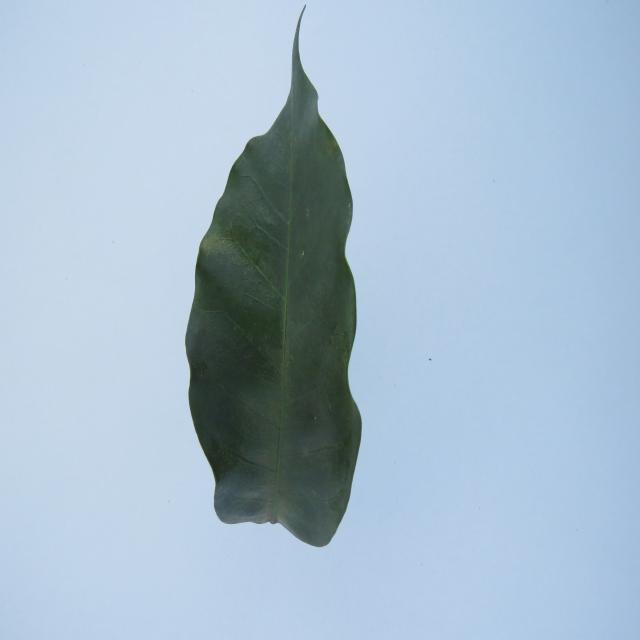DeficienciaNutricional-Calcio: (186, 20, 361, 547)
